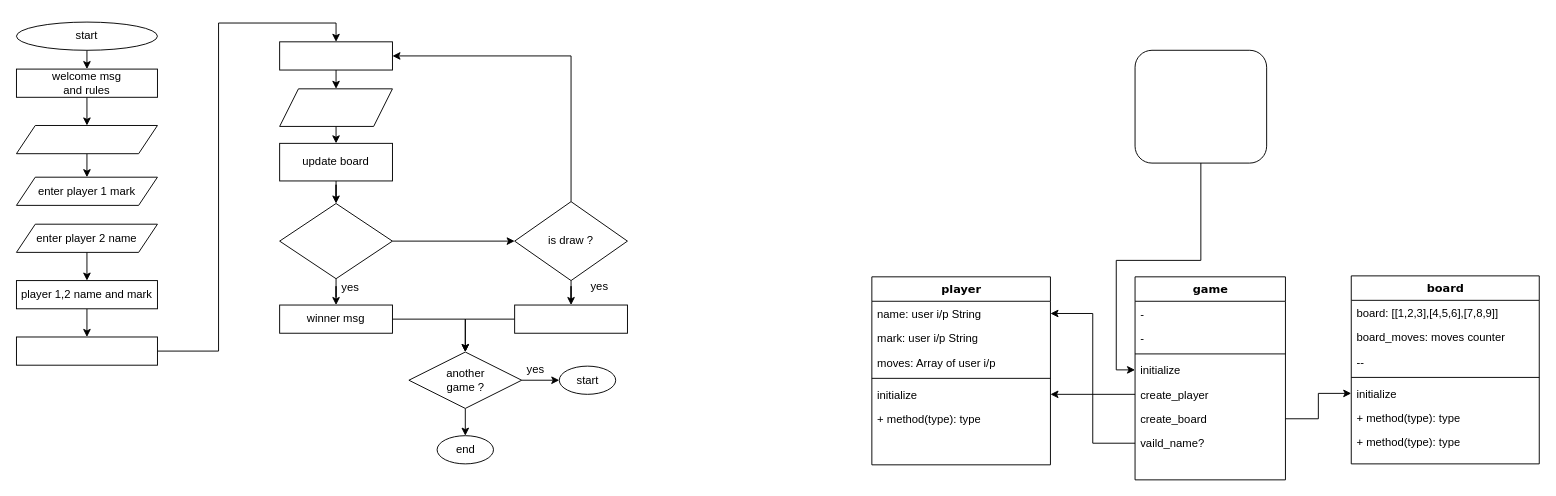
Some shapes in this 1556 by 496 pixel diagram are drawn without their labels. The shapes that lost their labels are listed below. From the top down, each one's centre as x and y in pixels, then its label:
At (335,55): "toggle turn".
At (335,107): "player turn".
At (1200,106): "main".
At (86,139): "enter player 1 name".
At (335,241): "is winner ?".
At (570,318): "draw msg".
At (86,350): "instruction msg".
